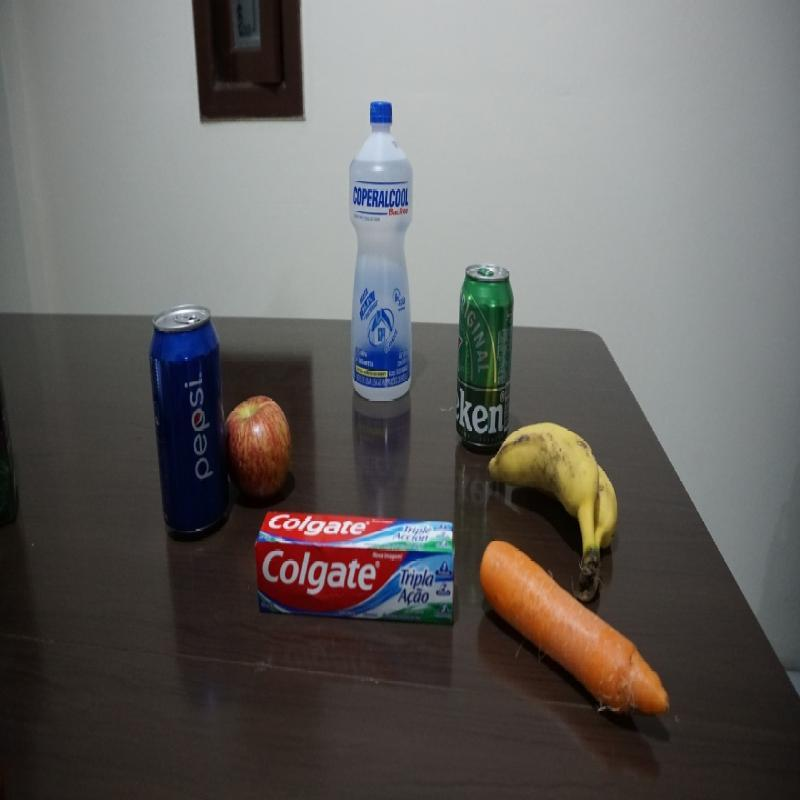Alcohol Bottle: (345, 95, 417, 407)
Apple: (223, 394, 294, 497)
Banana: (484, 421, 624, 602)
Beer can: (454, 261, 515, 456)
Carrot: (478, 540, 668, 722)
Soda can: (148, 301, 231, 541)
Toothpaste: (253, 508, 459, 627)
